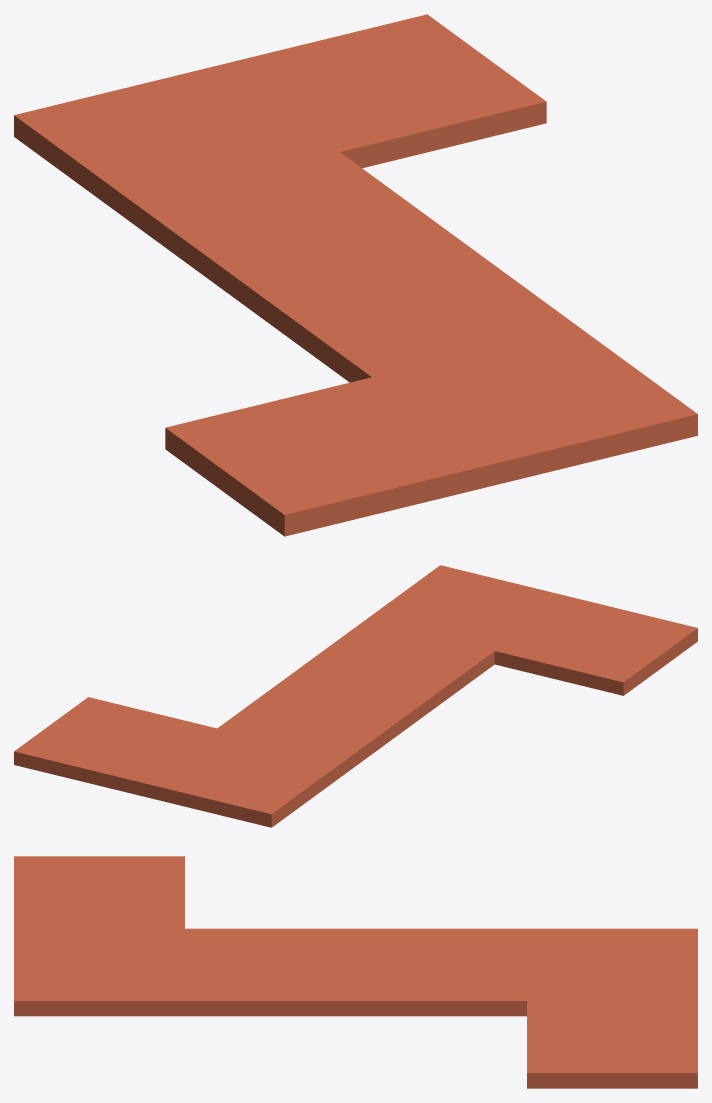
Rendered from Level01.fbx.
3 views of the same model, one above another, from view 1: azimuth 30°, elevation 25°; view 2: azimuth 150°, elevation 25°; view 3: azimuth 270°, elevation 25° (orthographic). The views are drawn at different scales.
Parts seen in each view (by area): view 1: porch_floorCenter (×6); view 2: porch_floorCenter (×6); view 3: porch_floorCenter (×6).
Part boxes in pixels (<box>): porch_floorCenter (×6): <box>14,14,697,536</box>; porch_floorCenter (×6): <box>14,565,697,827</box>; porch_floorCenter (×6): <box>14,856,697,1088</box>.
Bounding box in the file's own units: 30 × 1 × 40.
